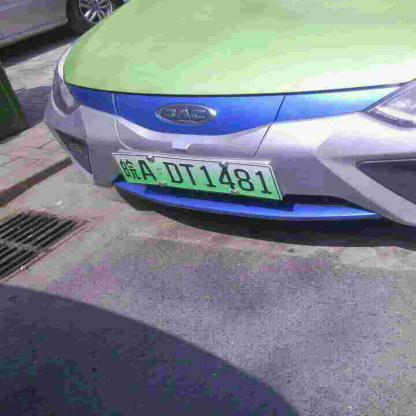lp: (110, 155, 283, 200)
